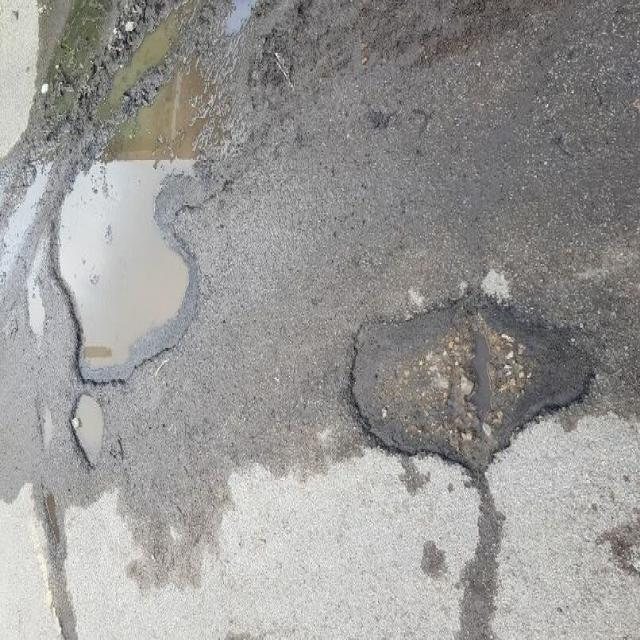pothole: (46, 63, 240, 386), (342, 286, 594, 487), (64, 386, 105, 471)
